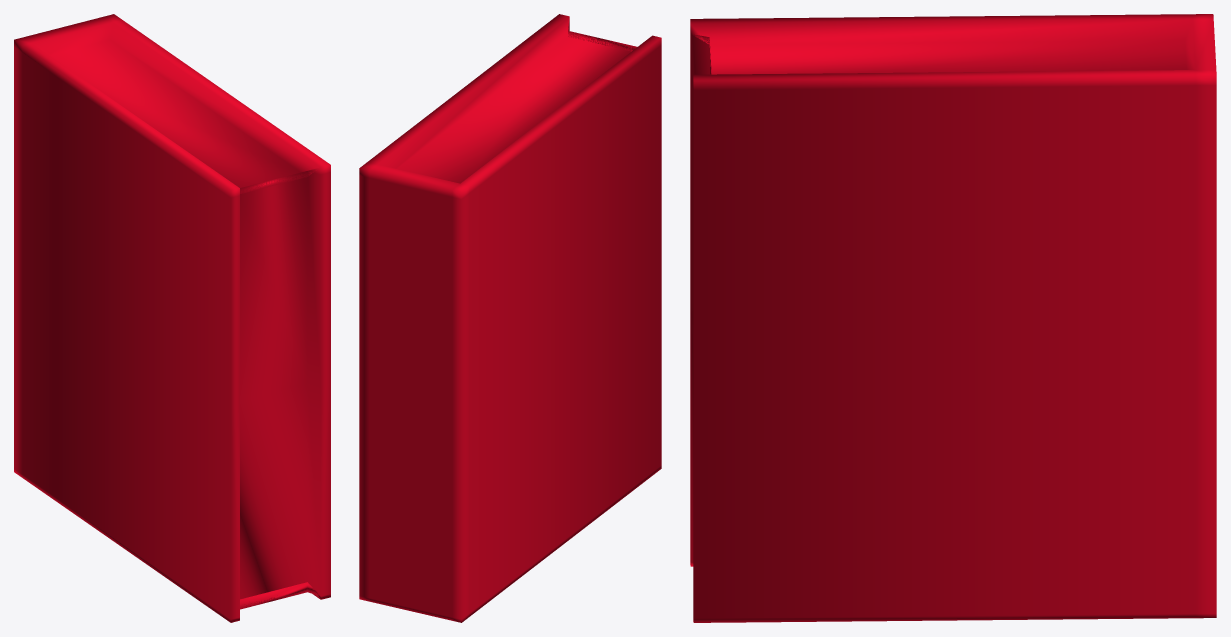
Rendered from Book_5.fbx.
3 views of the same model, side by side, from view 1: azimuth 30°, elevation 25°; view 2: azimuth 150°, elevation 25°; view 3: azimuth 270°, elevation 25° (orthographic). The views are drawn at different scales.
Visible parts, largest first — view 1: Book_5; view 2: Book_5; view 3: Book_5.
Part boxes in pixels (box(x1,y1,x2,y2)): Book_5: box(14, 14, 330, 622); Book_5: box(359, 14, 661, 622); Book_5: box(690, 14, 1216, 622).
Size of the model in its own units: 10.72 by 40.5 by 35.65.
